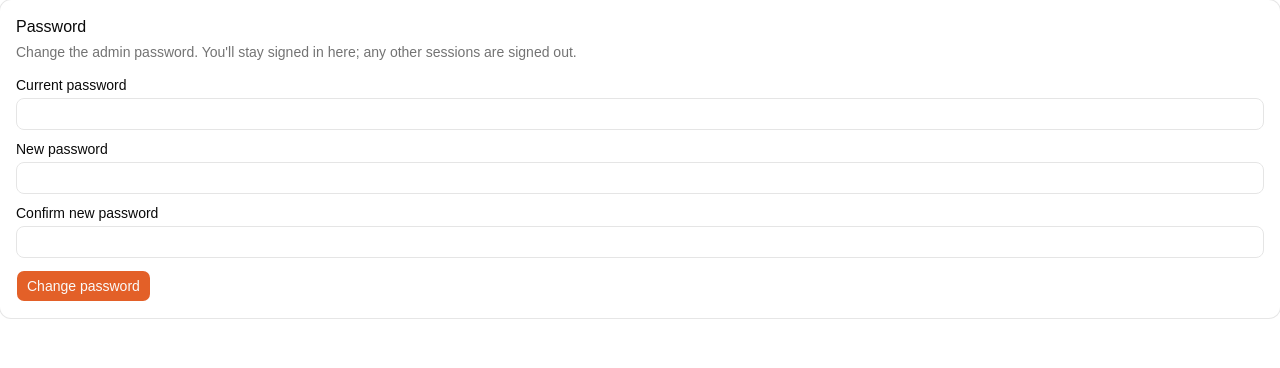
Test case: ChangePasswordCard › POSTs current/new password on a matching confirmation and shows a success message
Type "old-pw" into the password field labelled "Current password" at (640, 114), box x1=16 y1=98 x2=1264 y2=130
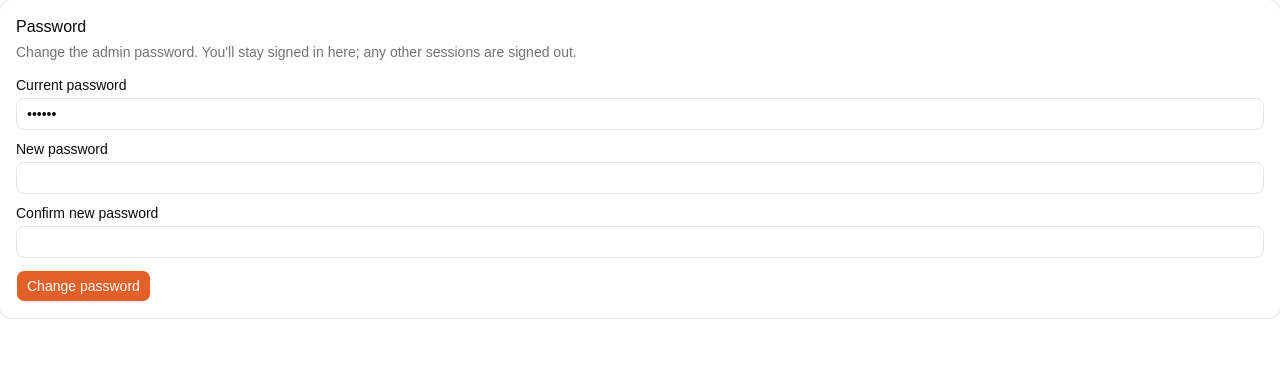
Type "new-password-1" into the password field labelled "New password" at (640, 178), box x1=16 y1=162 x2=1264 y2=194
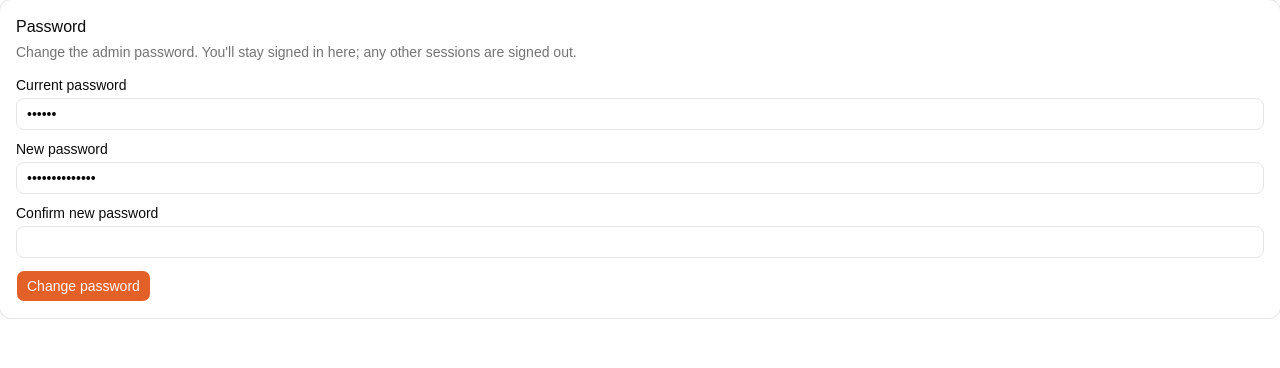
Type "new-password-1" into the password field labelled "Confirm new password" at (640, 242), box x1=16 y1=226 x2=1264 y2=258
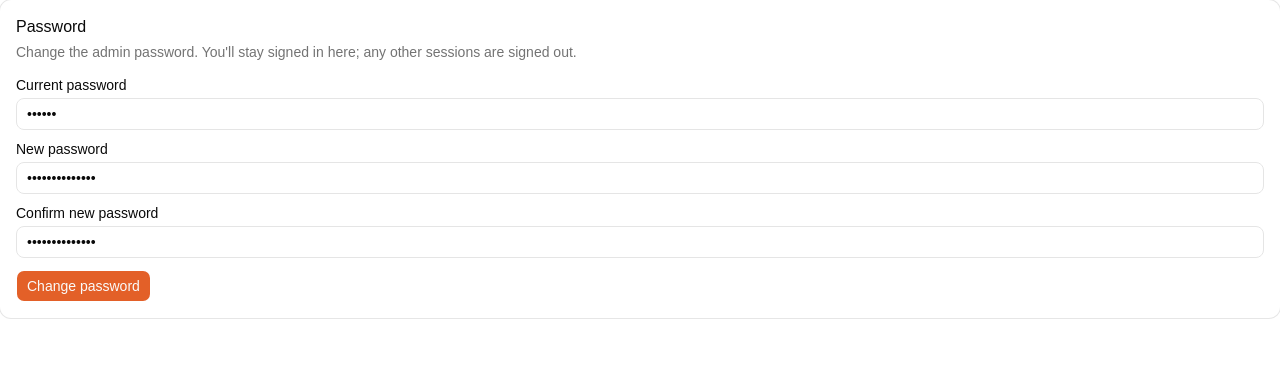
Click the button "Change password" at (83, 286), box x1=16 y1=270 x2=151 y2=302
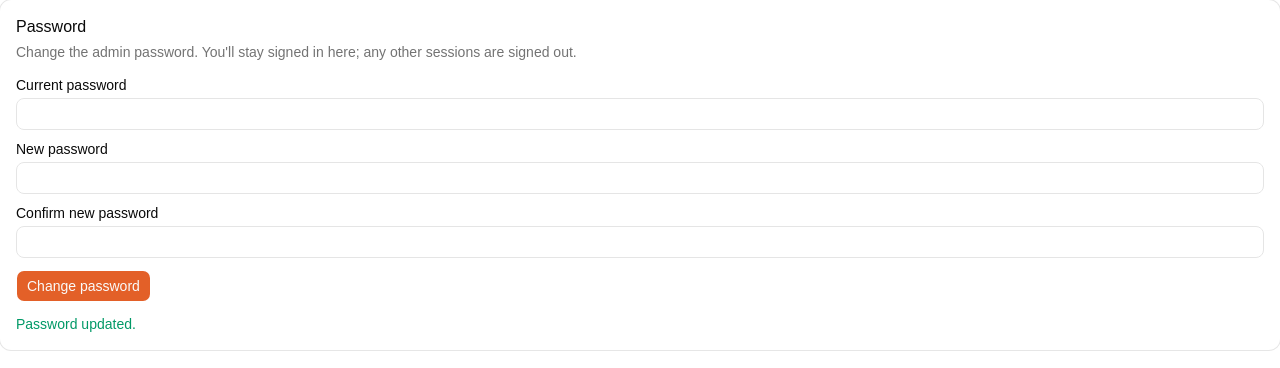
Result: the text "Password updated." is shown at x1=16 y1=316 x2=136 y2=332
